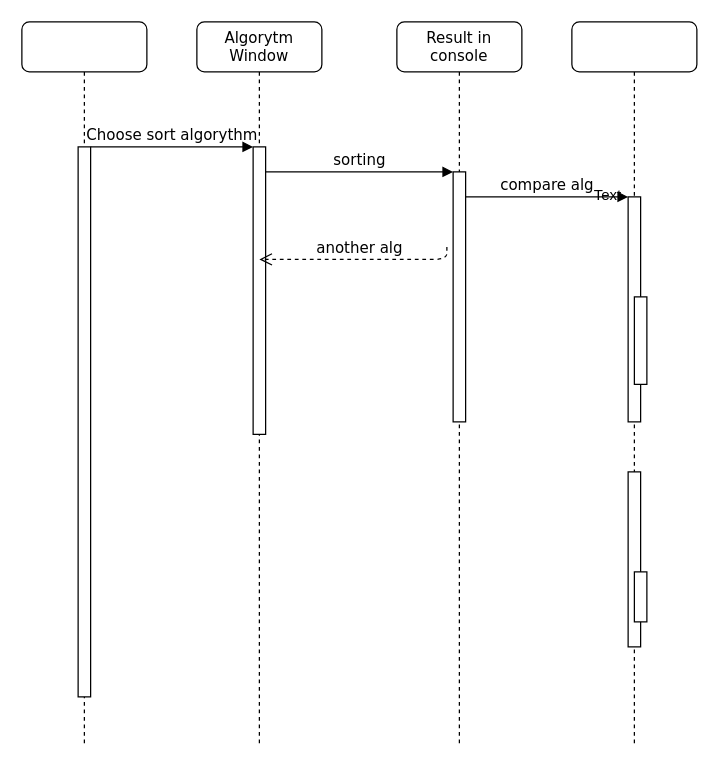
The diagram is 719 pixels wide and 769 high, and some of its shapes have lost their labels. The box of each missing label's shape, as (x1, y1, x2, y2) in pixels:
Compare Window: (571, 21, 697, 747)
User: (21, 21, 147, 747)
